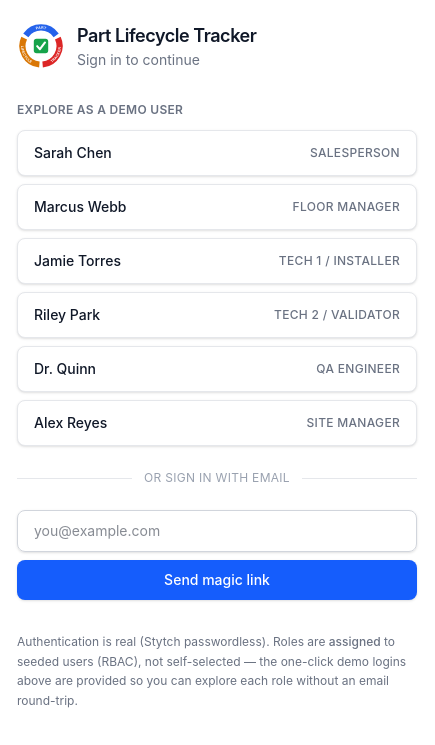
Login › surfaces an error when sending the magic link fails
Type "someone@example.com" into the field named "Email address" at coordinates (217, 531), box [17,510,417,552]
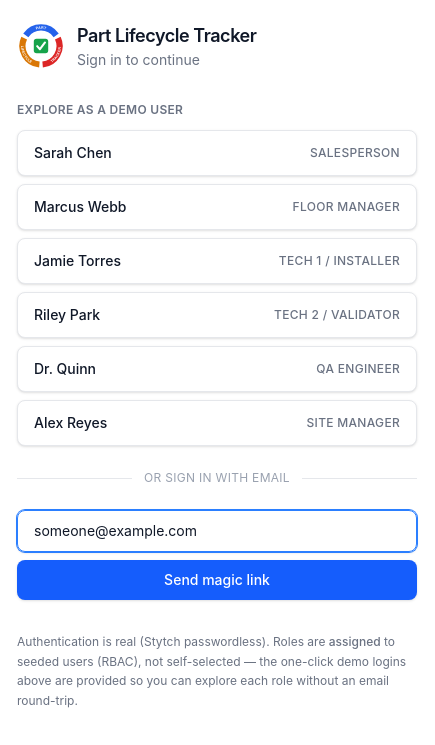
Click the button "Send magic link" at coordinates (217, 580), box [17,560,417,600]
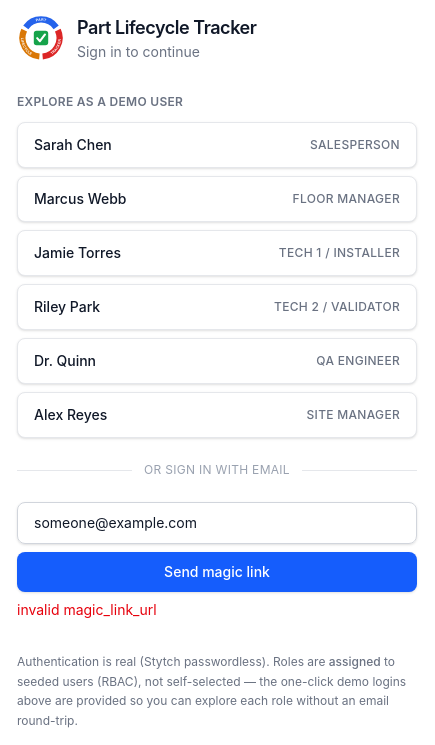
Check: the message reads "invalid magic_link_url", box [17,601,157,618]
